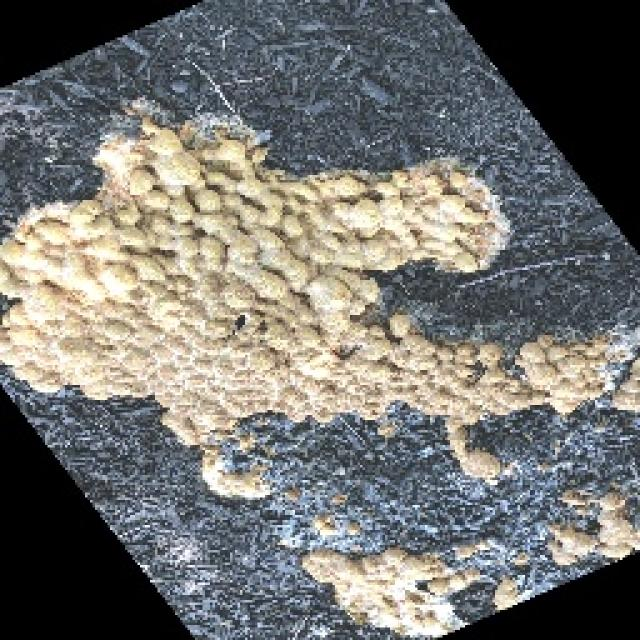Dog_vomit_slime_mold: (10, 122, 640, 600)
